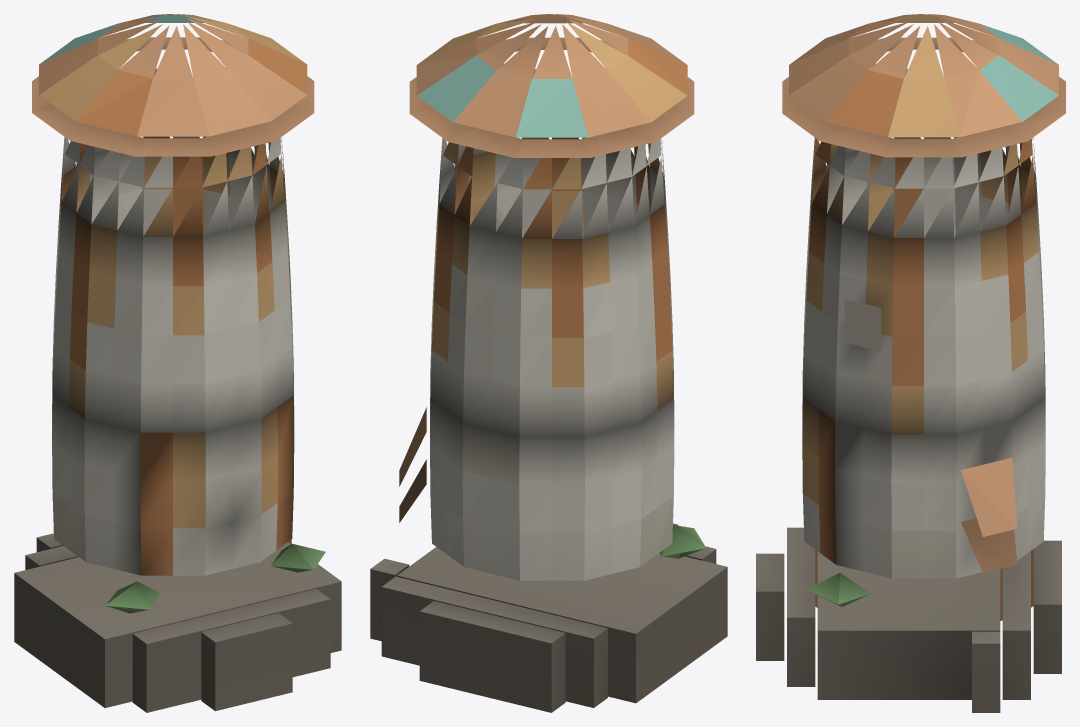
The model's file is silo.lod.glb.
The picture shows the model from 3 angles, left to right: view 1: azimuth 30°, elevation 25°; view 2: azimuth 150°, elevation 25°; view 3: azimuth 270°, elevation 25°; orthographic projection.
Parts seen in each view (by area): view 1: silo; view 2: silo; view 3: silo.
Boxes of the visible parts, x1=… form: silo: x1=14, y1=14, x2=341, y2=712; silo: x1=370, y1=14, x2=727, y2=712; silo: x1=756, y1=14, x2=1065, y2=712.
Size of the model in its own units: 4.98 by 11.16 by 5.02.
